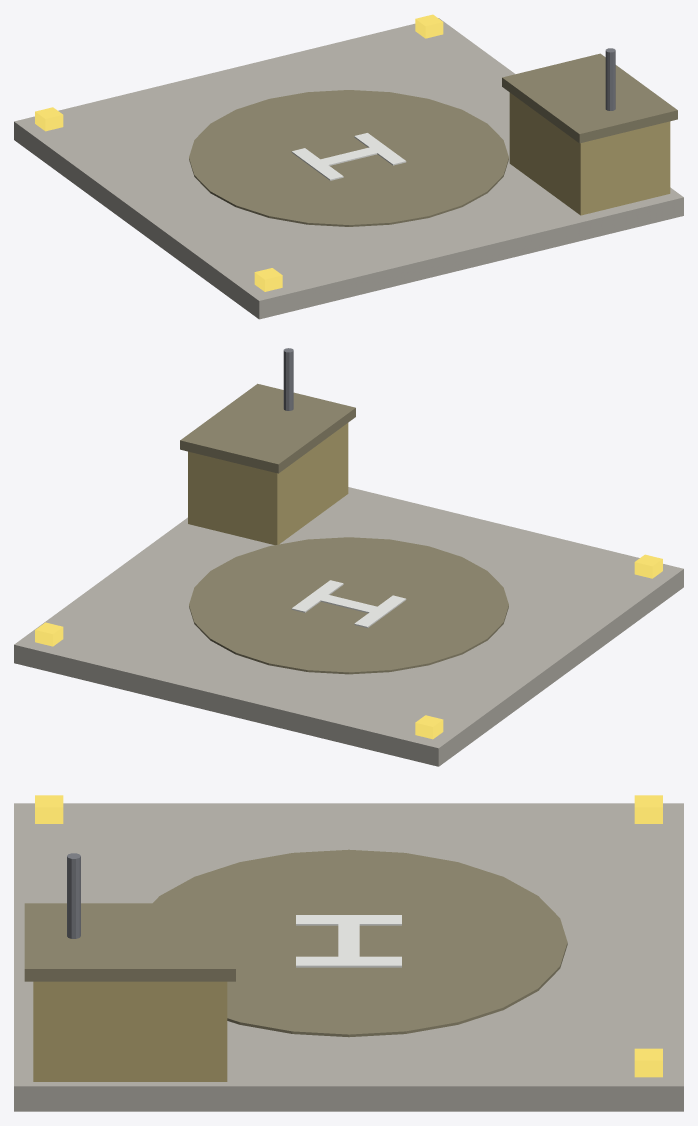
File: dm_helipad.glb
The picture shows the model from 3 angles, top to bottom: view 1: azimuth 30°, elevation 25°; view 2: azimuth 150°, elevation 25°; view 3: azimuth 270°, elevation 25°; orthographic projection. The views are drawn at different scales.
Parts seen in each view (by area): view 1: model; view 2: model; view 3: model.
Part boxes in pixels (x1,y1,x2,y2): model: (14, 14, 683, 319); model: (14, 348, 683, 766); model: (14, 795, 683, 1111).
Size of the model in its own units: 1.9 by 0.6925 by 1.9.
